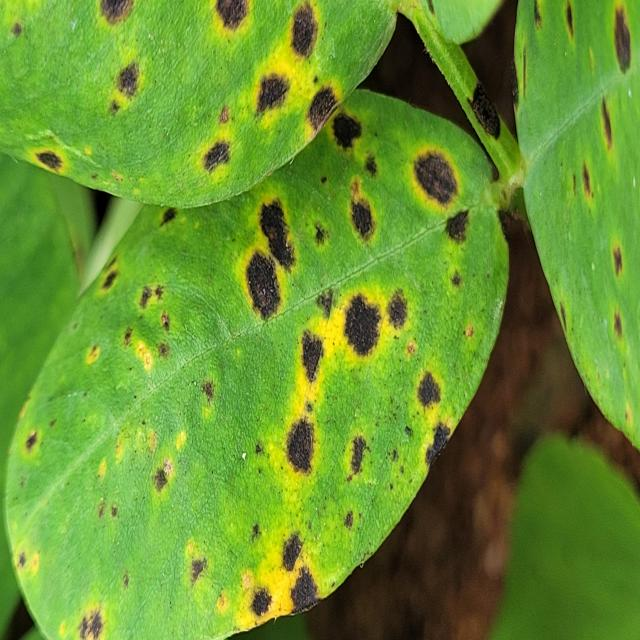Ground nut_tikka leaf spot: (7, 82, 510, 640)
